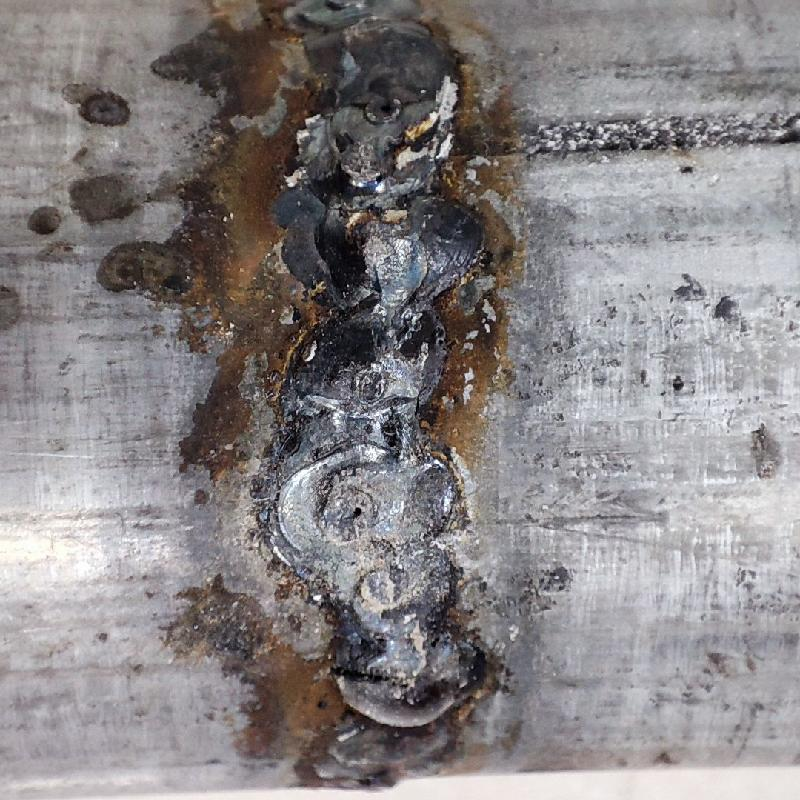Not_fully_soldered: (278, 453, 468, 644)
Surface_pores: (329, 492, 382, 540), (368, 91, 408, 129)
wrong_size: (283, 0, 486, 448), (290, 645, 468, 785)
